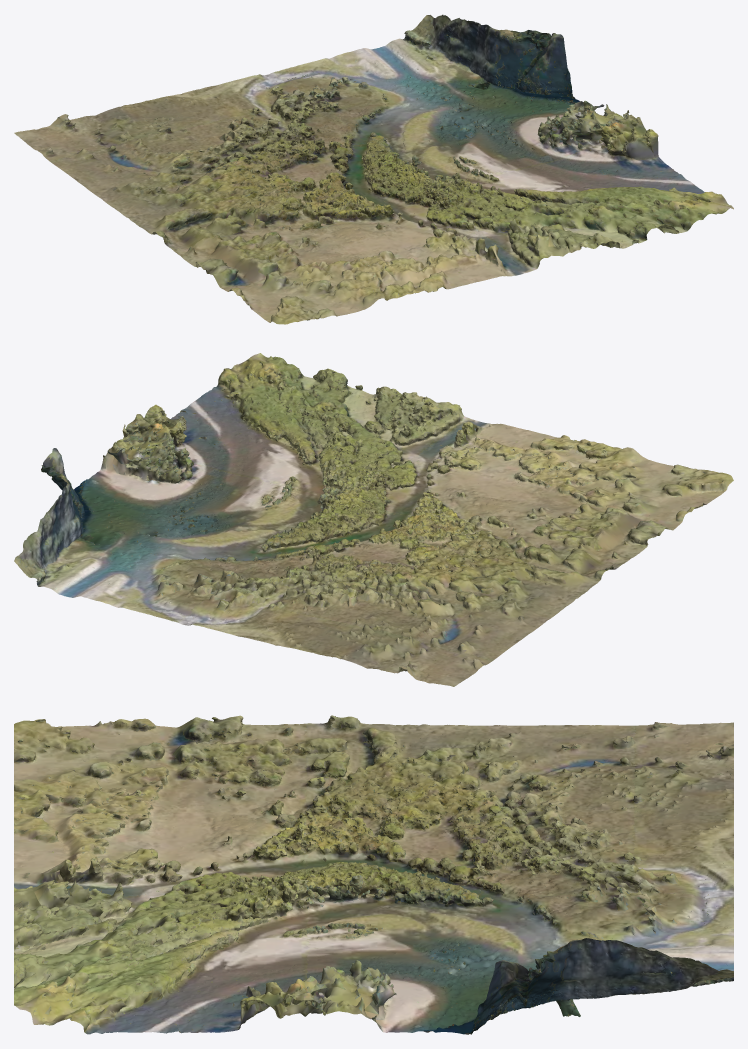
File: wetland-shoal-river.glb
3 views of the same model, one above another, from view 1: azimuth 30°, elevation 25°; view 2: azimuth 150°, elevation 25°; view 3: azimuth 270°, elevation 25° (orthographic). The views are drawn at different scales.
Visible parts, largest first — view 1: Object_2; view 2: Object_2; view 3: Object_2.
Boxes of the visible parts, bbox=[...] form: Object_2: bbox=[14, 14, 733, 324]; Object_2: bbox=[14, 353, 733, 686]; Object_2: bbox=[14, 715, 733, 1034].
Bounding box in the file's own units: 420 × 56.45 × 420.
Materials: 1 (1 with a texture image).
